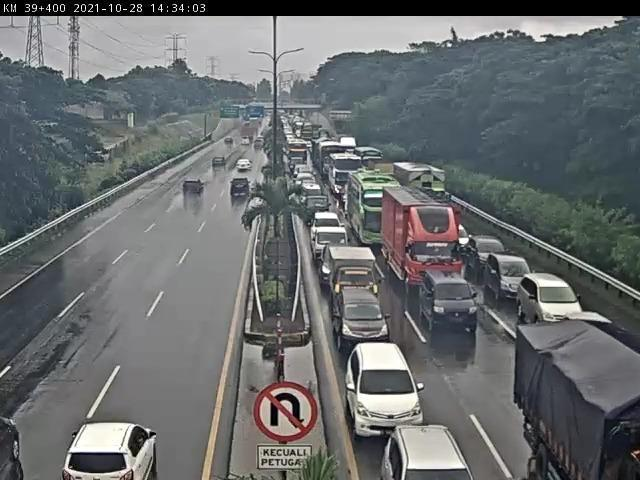bus: (349, 172, 402, 248), (323, 152, 363, 194), (287, 140, 309, 170)
car: (344, 345, 424, 442), (63, 423, 160, 480), (417, 268, 479, 336), (323, 247, 385, 305), (521, 274, 585, 330), (328, 287, 390, 344), (489, 256, 534, 303), (311, 223, 352, 265), (467, 236, 509, 271), (299, 195, 331, 225), (448, 222, 471, 253), (230, 179, 252, 203), (183, 179, 208, 200), (297, 179, 321, 200), (313, 209, 341, 227), (234, 158, 256, 174), (208, 161, 227, 178), (295, 168, 313, 183)
truck: (382, 186, 461, 296), (393, 160, 457, 214), (319, 143, 348, 179)
